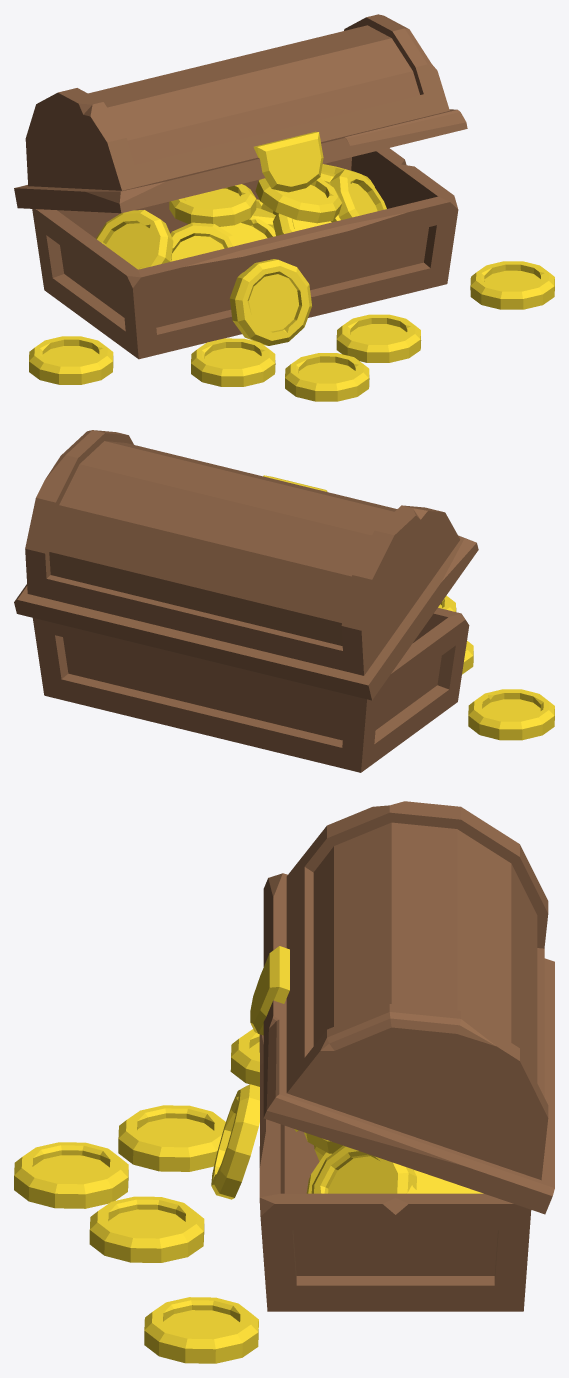
Rendered from chest.fbx.
3 renders of one model, top to bottom at view 1: azimuth 30°, elevation 25°; view 2: azimuth 150°, elevation 25°; view 3: azimuth 270°, elevation 25°, orthographic. The views are drawn at different scales.
Visible parts, largest first — view 1: chest_top, chest, coins_outside, coins; view 2: chest_top, chest, coins_outside; view 3: chest_top, chest, coins_outside, coins.
Boxes of the visible parts, bbox=[...] form: chest_top: bbox=[14, 14, 467, 213]; chest: bbox=[32, 148, 458, 359]; coins_outside: bbox=[29, 259, 554, 401]; coins: bbox=[96, 164, 386, 269]; chest_top: bbox=[14, 430, 478, 700]; chest: bbox=[32, 608, 469, 772]; coins_outside: bbox=[438, 595, 554, 740]; chest_top: bbox=[250, 801, 554, 1214]; chest: bbox=[259, 1034, 531, 1311]; coins_outside: bbox=[14, 1029, 259, 1363]; coins: bbox=[294, 1129, 483, 1193].
Bounding box in the file's own units: 215 × 96.2 × 154.
